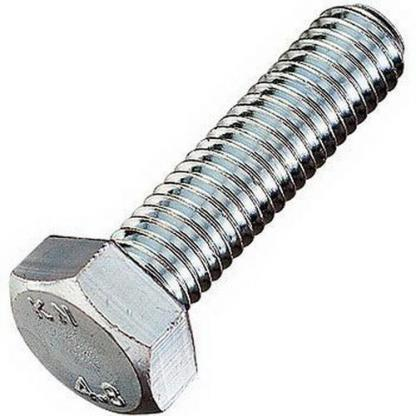FOD: (8, 3, 410, 415)
